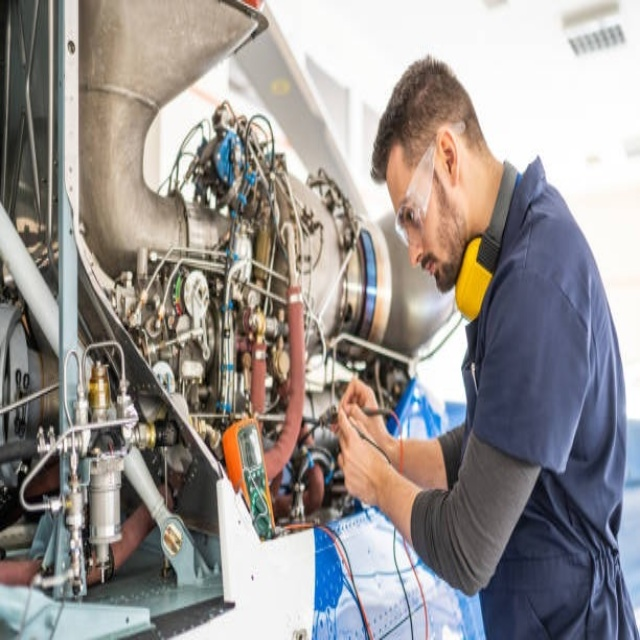Gafas: (396, 123, 462, 249)
Sin_guantes: (334, 424, 391, 513), (335, 375, 383, 439)
Sin_mascara: (418, 257, 443, 296)
